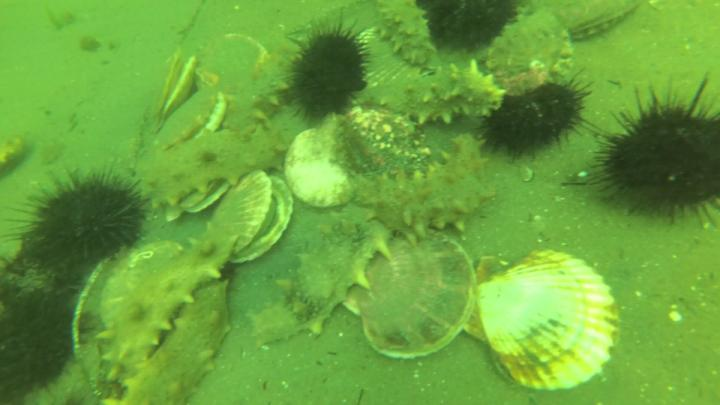echinus: (598, 89, 720, 221), (18, 175, 147, 282), (482, 75, 590, 161), (1, 288, 80, 398), (288, 26, 367, 125), (421, 1, 519, 53)
holothurian: (247, 215, 395, 354), (100, 276, 233, 405), (93, 251, 222, 384), (350, 133, 497, 245), (137, 128, 287, 209), (364, 60, 505, 127), (378, 1, 438, 67), (226, 78, 289, 135)
scallop: (462, 248, 623, 393), (344, 228, 482, 362), (100, 238, 186, 332), (210, 170, 294, 265), (284, 117, 355, 211), (149, 87, 229, 156), (354, 23, 426, 91), (148, 48, 199, 136), (193, 33, 270, 87), (162, 181, 228, 226)
